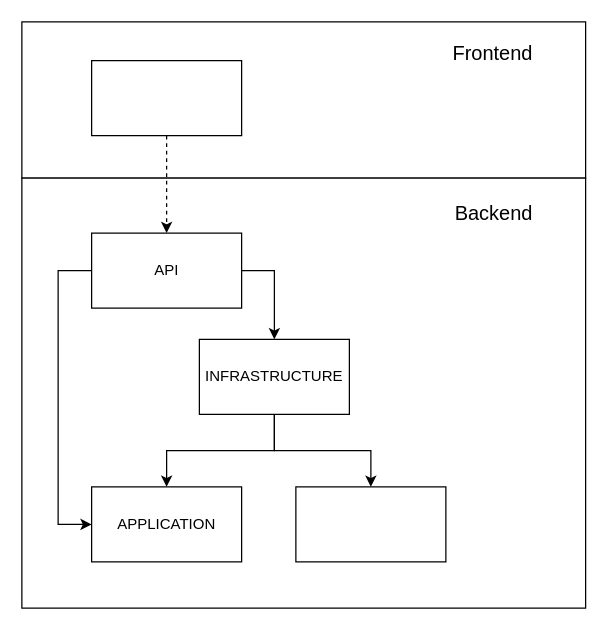
The diagram is 608 pixels wide and 630 high, and some of its shapes have lost their labels. Each missing label, with the centre of its shape:
"APP" belongs at (x=166, y=97).
"DOMAIN" belongs at (x=370, y=524).
